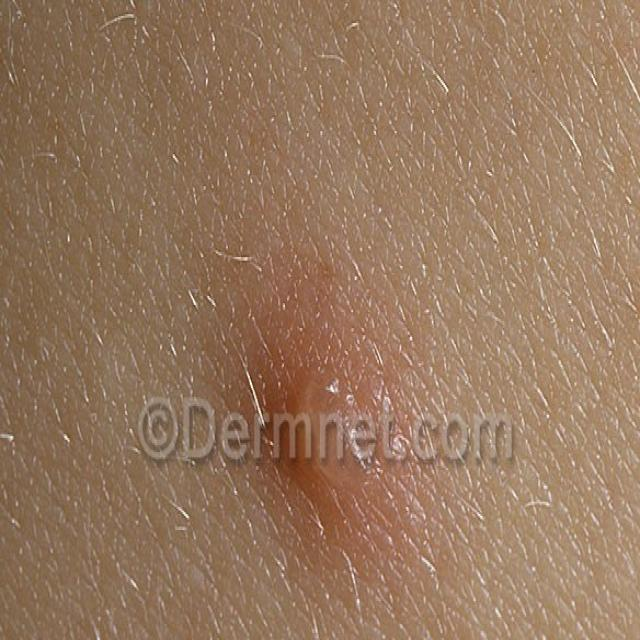Viral Infections: (254, 323, 371, 547)
